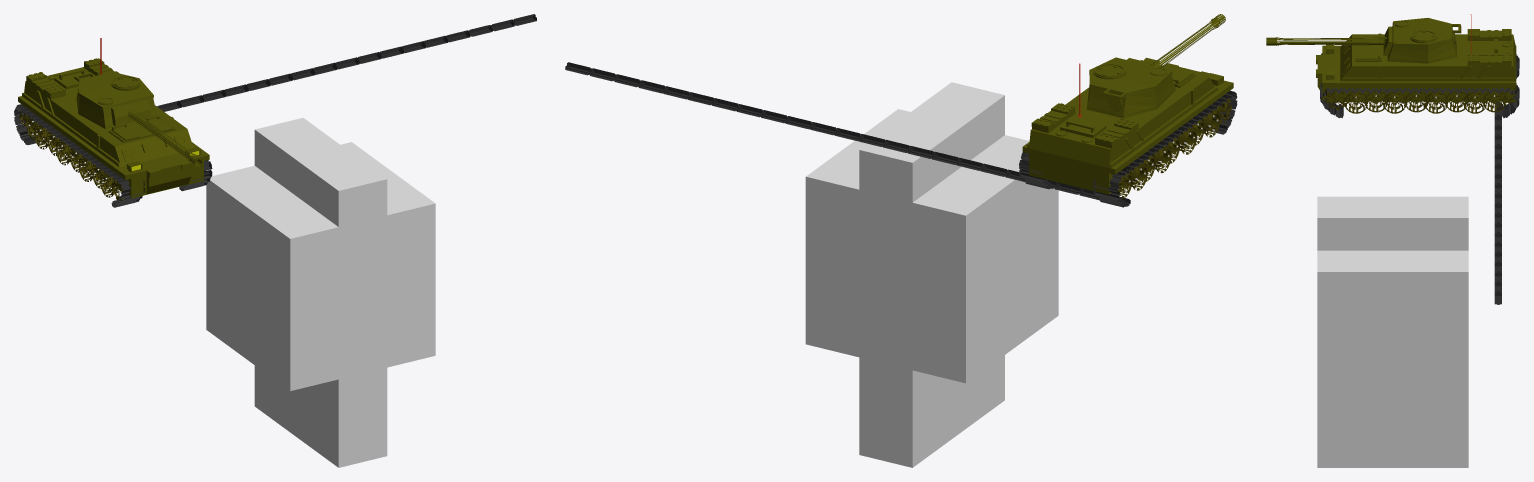
Rendered from armor.glb.
3 renders of one model, left to right at view 1: azimuth 30°, elevation 25°; view 2: azimuth 150°, elevation 25°; view 3: azimuth 270°, elevation 25°, orthographic. The views are drawn at different scales.
Visible parts, largest first — view 1: Cube.003, Cube, Cube.001, Cube.009, Cube.002, Cube.004, Circle.020; view 2: Cube.003, Cube, Cube.002, Cube.001, Cube.009, Cube.004, Circle.020; view 3: Cube.003, Cube, Cube.001, Cube.009, Circle.020, Cube.008, Cube.002, Circle.016, Circle.019, Circle.015, Circle.014, Cube.005 (+4 smaller).
Boxes of the visible parts, left/top/right/bottom form: Cube.003: left=206, top=118, right=435, bottom=467; Cube: left=18, top=58, right=209, bottom=198; Cube.001: left=74, top=72, right=157, bottom=128; Cube.009: left=157, top=14, right=536, bottom=110; Cube.002: left=24, top=30, right=469, bottom=144; Cube.004: left=23, top=108, right=128, bottom=183; Circle.020: left=128, top=109, right=202, bottom=166; Cube.003: left=805, top=82, right=1058, bottom=467; Cube: left=1022, top=58, right=1233, bottom=194; Cube.002: left=640, top=80, right=1130, bottom=206; Cube.001: left=1086, top=57, right=1175, bottom=118; Cube.009: left=565, top=62, right=1055, bottom=188; Cube.004: left=1124, top=91, right=1232, bottom=174; Circle.020: left=1150, top=14, right=1225, bottom=67; Cube.003: left=1317, top=196, right=1468, bottom=467; Cube: left=1316, top=29, right=1516, bottom=102; Cube.001: left=1383, top=18, right=1461, bottom=63; Cube.009: left=1494, top=107, right=1501, bottom=304; Circle.020: left=1266, top=37, right=1387, bottom=45; Cube.008: left=1327, top=88, right=1502, bottom=93; Cube.002: left=1494, top=102, right=1501, bottom=272; Circle.016: left=1424, top=91, right=1447, bottom=113; Circle.019: left=1463, top=91, right=1486, bottom=113; Circle.015: left=1383, top=91, right=1406, bottom=113; Circle.014: left=1344, top=91, right=1367, bottom=113; Cube.005: left=1501, top=83, right=1519, bottom=117.
Size of what is drawn, in the model's own units: 7 by 5.32 by 3.34.
